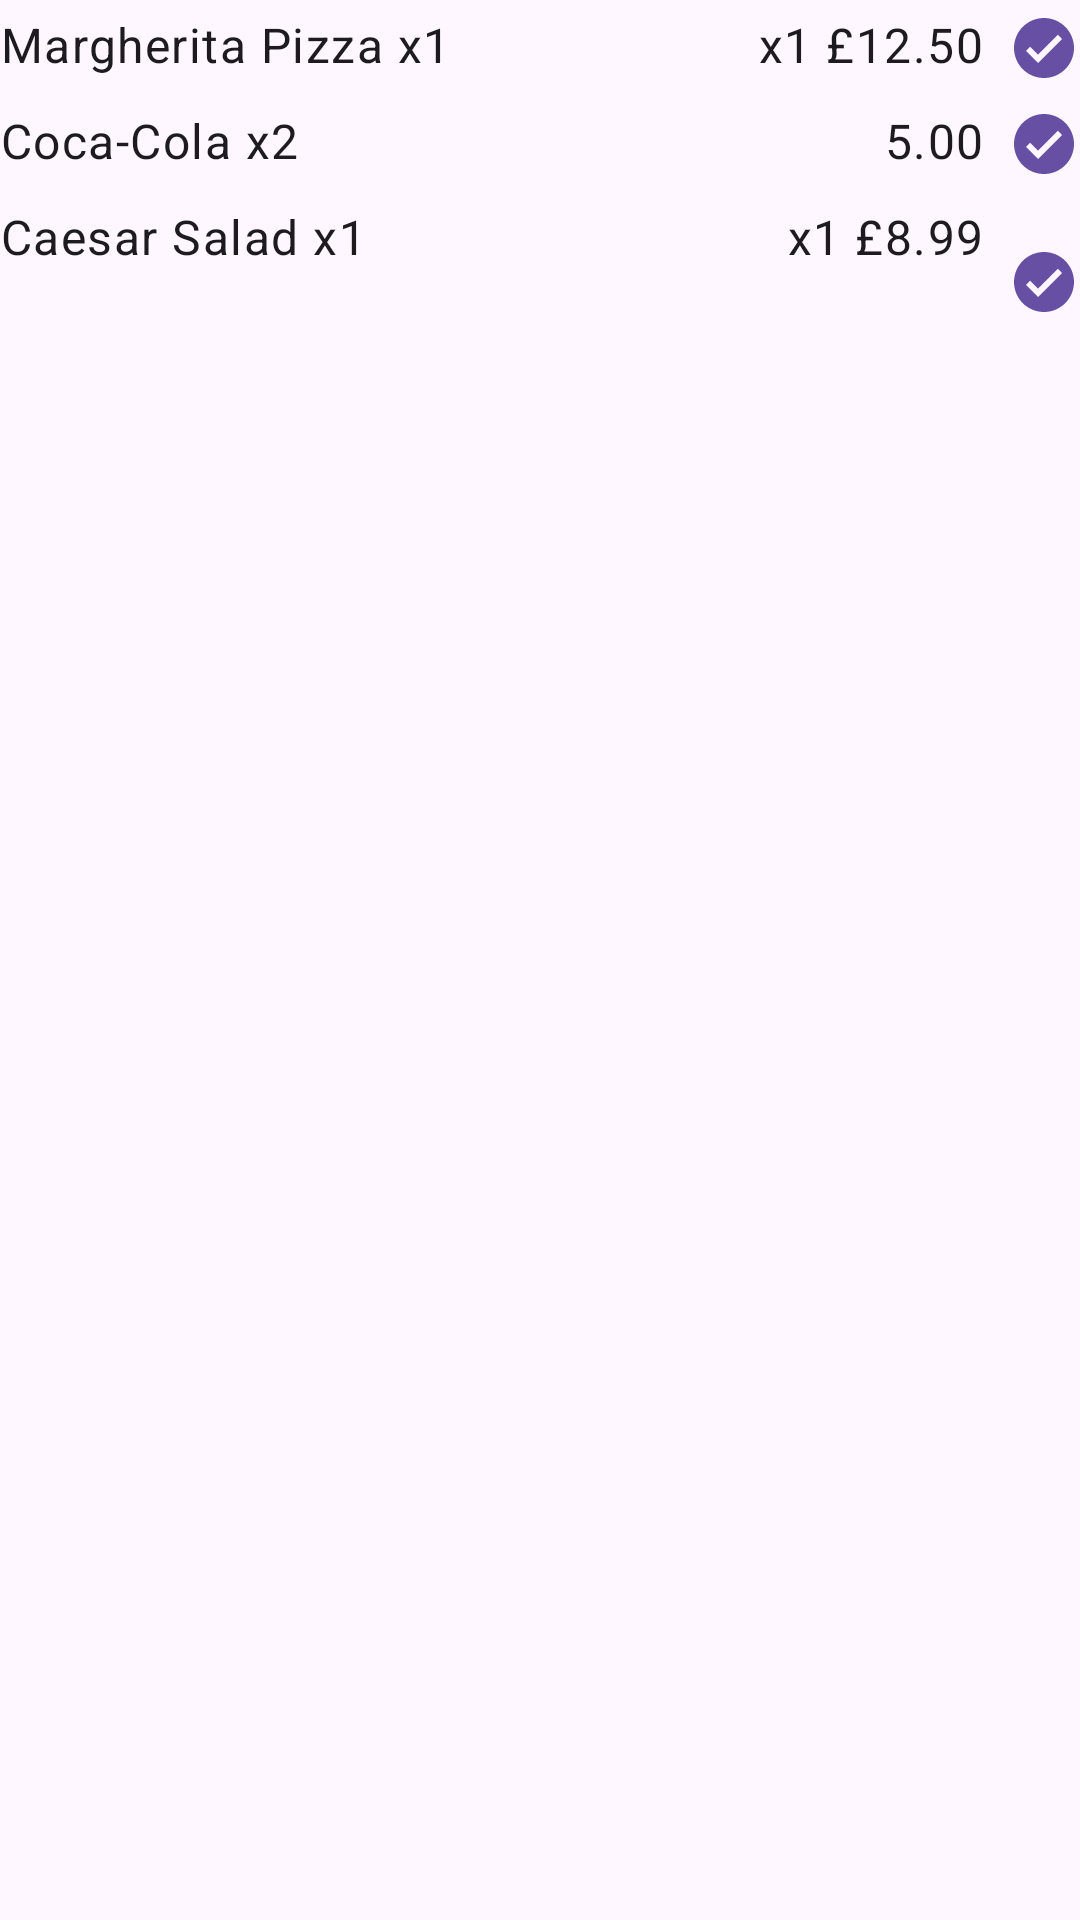

Where to tap for icons on this 1080×1920 app screen, as (x,y):
Item ordered: (1044,48), (1044,144), (1044,282)
